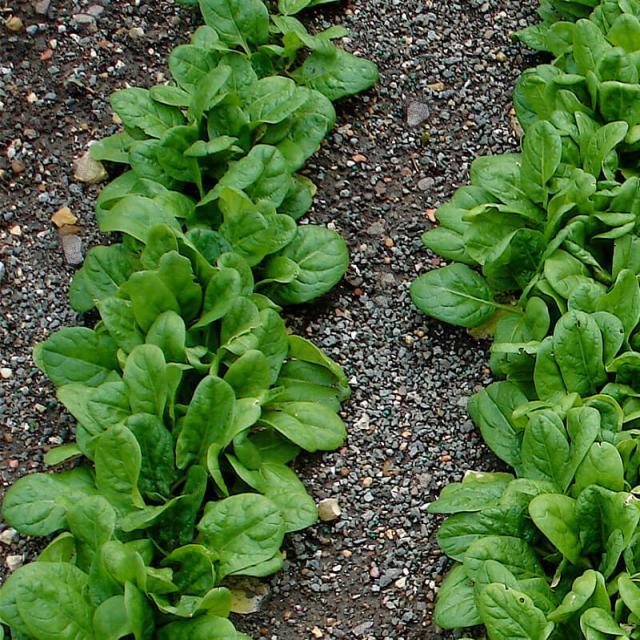spinach: (175, 368, 238, 492), (10, 557, 96, 640), (271, 224, 353, 304), (413, 263, 511, 328), (467, 577, 552, 640), (2, 471, 84, 534), (92, 422, 146, 510), (41, 324, 115, 387), (519, 120, 565, 204), (122, 343, 172, 416), (79, 241, 131, 298), (127, 270, 175, 326), (249, 85, 309, 128), (171, 44, 207, 89)
